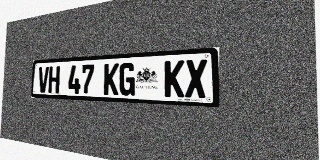4: (68, 65, 81, 94)
7: (80, 64, 94, 94)
G: (119, 62, 135, 96)
H: (48, 66, 60, 93)
K: (164, 60, 184, 97), (103, 63, 119, 95)
V: (38, 67, 49, 93)
X: (185, 59, 207, 98)
